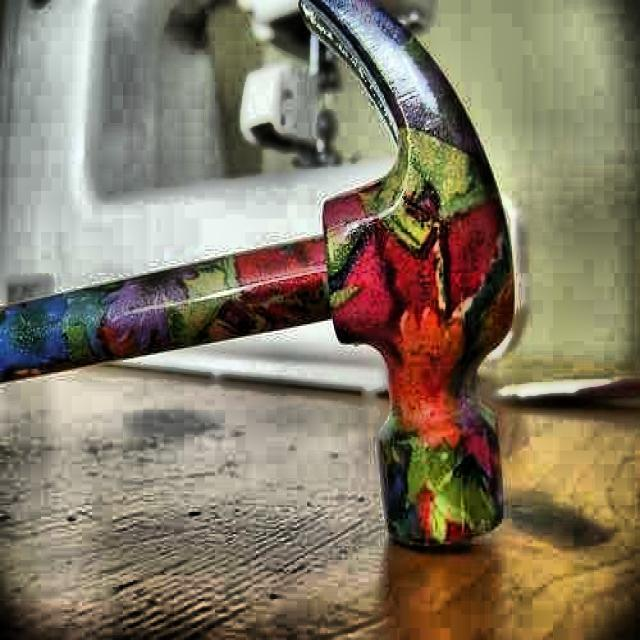hammer: (1, 0, 523, 549)
